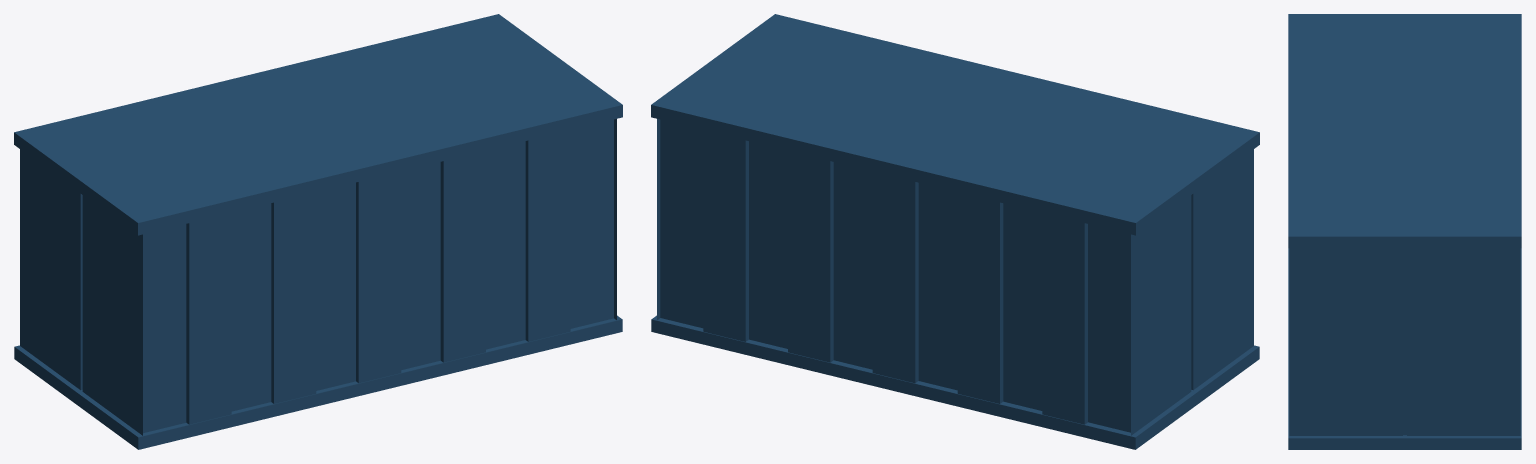
Rendered from BLUE CONTAINER.fbx.
3 views of the same model, side by side, from view 1: azimuth 30°, elevation 25°; view 2: azimuth 150°, elevation 25°; view 3: azimuth 270°, elevation 25° (orthographic). The views are drawn at different scales.
Visible parts, largest first — view 1: Cube.097; view 2: Cube.097; view 3: Cube.097.
Boxes of the visible parts, x1,y1,x2,y2 form: Cube.097: (14,14,622,449); Cube.097: (651,14,1259,449); Cube.097: (1288,14,1521,449).
Bounding box in the file's own units: 1127 × 504 × 500.
